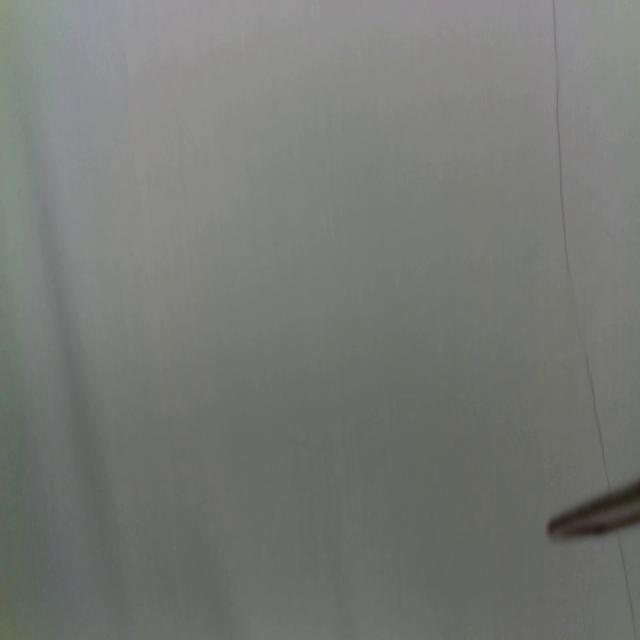crease: (552, 0, 610, 488), (616, 530, 638, 640)
